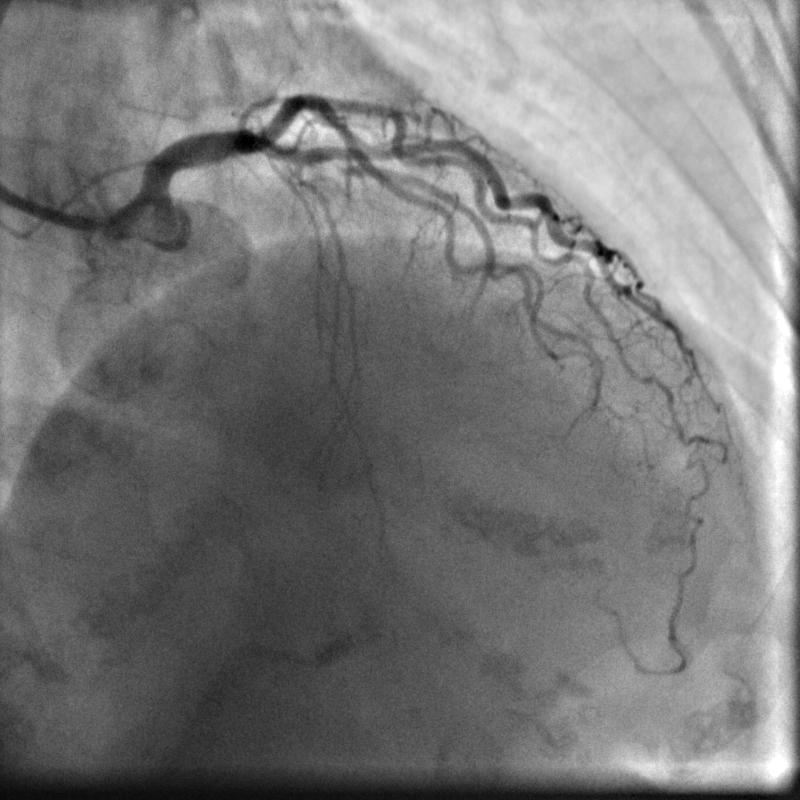Stenosis: (336, 158, 355, 176)
